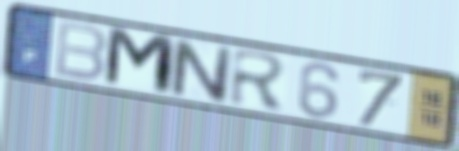6: (296, 60, 342, 122)
7: (354, 67, 406, 129)
B: (52, 18, 110, 84)
M: (101, 24, 179, 100)
N: (169, 36, 233, 106)
R: (227, 46, 289, 114)
